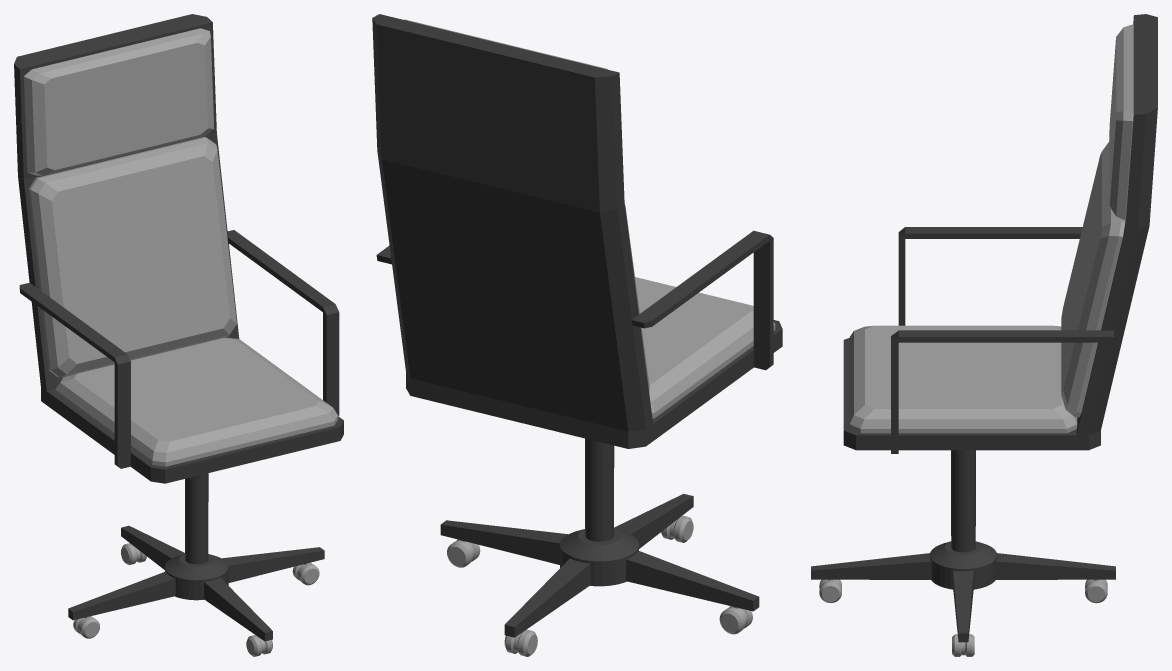
The model's file is kursi kerja.fbx.
3 renders of one model, left to right at view 1: azimuth 30°, elevation 25°; view 2: azimuth 150°, elevation 25°; view 3: azimuth 270°, elevation 25°, orthographic. The views are drawn at different scales.
Visible parts, largest first — view 1: Cube.002, Cube.001, Cube.003, Cube, Cube.005, Cube.004, Cube.007, Cylinder, Cube.006, Cylinder.001, Cube.008, Cube.009; view 2: Cube, Cube.001, Cube.005, Cube.007, Cube.006, Cylinder, Cylinder.001, Cube.009, Cube.008, Cylinder.003, Cylinder.002, Cylinder.005 (+1 smaller); view 3: Cube.001, Cube, Cube.002, Cube.003, Cube.004, Cube.005, Cylinder, Cube.009, Cube.008, Cylinder.001, Cube.006, Cylinder.005.
Boxes of the visible parts, x1,y1,x2,y2 form: Cube.002: [28, 137, 236, 377]; Cube.001: [55, 337, 338, 466]; Cube.003: [23, 28, 214, 175]; Cube: [14, 14, 343, 483]; Cube.005: [19, 282, 130, 468]; Cube.004: [227, 230, 339, 415]; Cube.007: [68, 571, 175, 620]; Cylinder: [185, 473, 208, 564]; Cube.006: [222, 547, 324, 582]; Cylinder.001: [165, 554, 228, 600]; Cube.008: [204, 577, 272, 641]; Cube.009: [121, 525, 185, 569]; Cube: [372, 14, 782, 448]; Cube.001: [635, 277, 775, 418]; Cube.005: [632, 230, 773, 370]; Cube.007: [626, 550, 759, 611]; Cube.006: [440, 520, 567, 564]; Cylinder: [585, 438, 614, 541]; Cylinder.001: [560, 529, 638, 586]; Cube.009: [504, 558, 590, 637]; Cube.008: [614, 493, 693, 548]; Cylinder.003: [719, 606, 752, 634]; Cylinder.002: [447, 539, 480, 567]; Cylinder.005: [504, 629, 537, 656]; Cube.001: [849, 325, 1077, 433]; Cube: [843, 14, 1157, 450]; Cube.002: [1061, 141, 1125, 417]; Cube.003: [1109, 24, 1133, 220]; Cube.004: [891, 330, 1113, 453]; Cube.005: [898, 227, 1082, 325]; Cylinder: [951, 450, 975, 552]; Cube.009: [995, 553, 1115, 579]; Cube.008: [811, 553, 931, 579]; Cylinder.001: [929, 541, 997, 589]; Cube.006: [953, 570, 973, 642]; Cylinder.005: [1085, 579, 1107, 603].
Size of the model in its own units: 319 by 612 by 359.
16 materials, 16 textured.
